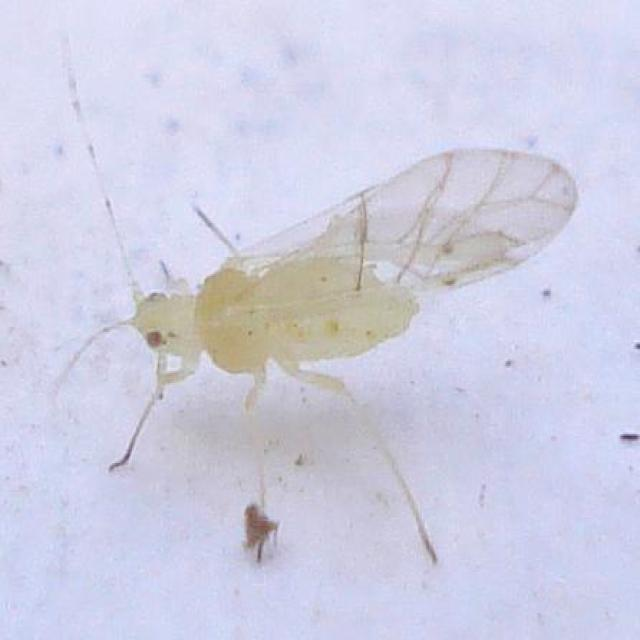Aphids: (53, 102, 585, 589)
